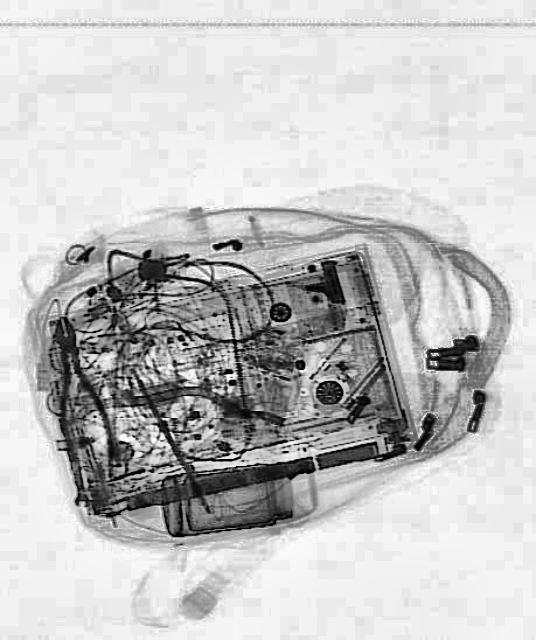Pliers: (38, 310, 118, 484)
Wrench: (60, 441, 88, 507)
